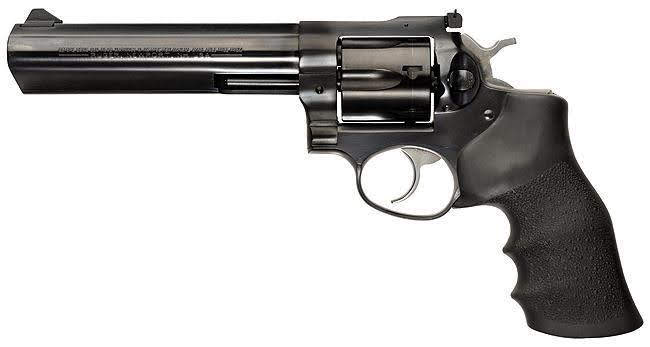gun: (1, 6, 637, 323)
